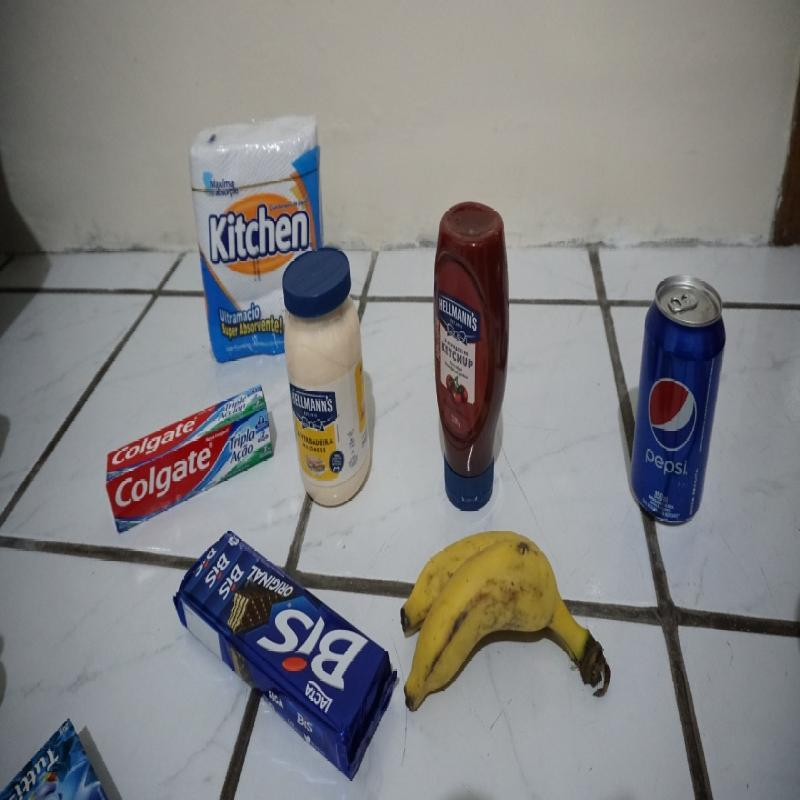Banana: (403, 533, 608, 712)
Gelatine: (0, 719, 110, 800)
Ketchup: (434, 201, 510, 512)
Mayonnaise: (283, 249, 372, 509)
Napkin: (190, 116, 328, 362)
Soda can: (633, 276, 727, 535)
Toothpaste: (107, 384, 274, 533)
